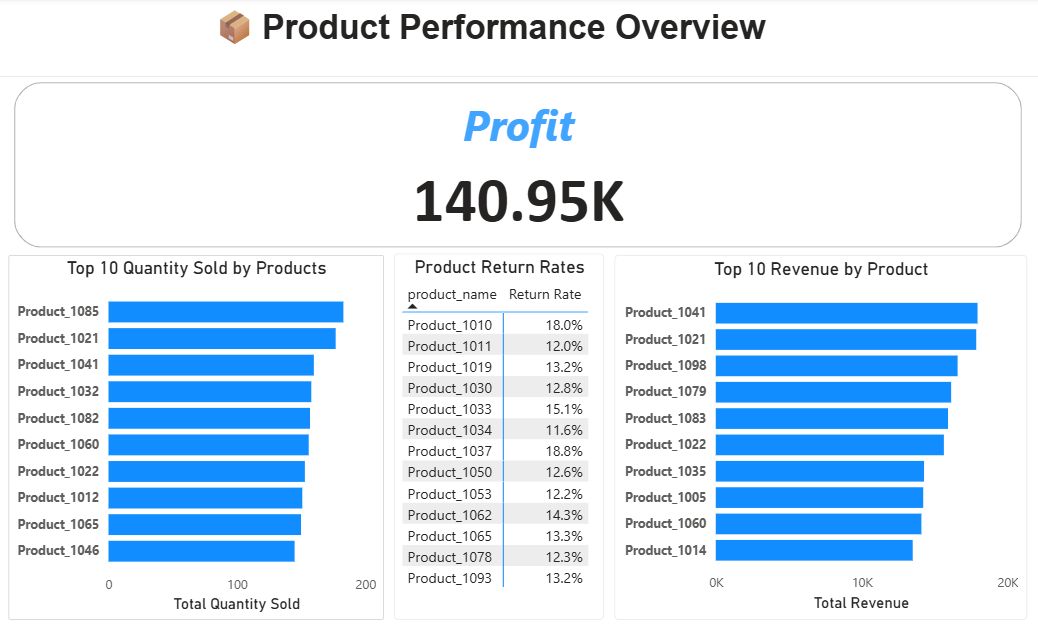

What the dashboard file says about the page in this screenshot:
{"tool":"powerbi","page":{"name":"Product Performance Overview","canvas":[1280,720],"ordinal":0},"visuals":[{"type":"clusteredBarChart","title":"Top 10 Revenue by Product","fields":{"Y":["Sales.Total Revenue"],"Category":["Products.product_name"]},"box":[785.3,244.3,390.5,345.1],"z":0},{"type":"clusteredBarChart","title":"Top 10 Quantity Sold by Products","fields":{"Y":["Sales.Total Quantity Sold"],"Category":["Products.product_name"]},"box":[211.6,244.3,355,345.1],"z":1000},{"type":"pivotTable","title":"Product Return Rates","fields":{"Values":["Returns.Return Rate"],"Rows":["Products.product_name"]},"box":[576.6,242.8,198.8,346.5],"z":2000},{"type":"cardVisual","title":"Profit","fields":{"Data":["Sales.Profit"]},"box":[211.6,75.3,964.3,167.6],"z":3000},{"type":"textbox","box":[78.1,0,1175.9,75.3],"z":4000}]}

Visuals, with their boxes on the page's 1280x720 design canvas (x1, y1, x2, y2). These are canvas units, not pixel positions in the 1038x637 screenshot, which may show the page scaled, cropped or inside an application window:
"Top 10 Revenue by Product" clusteredBarChart: [x1=785, y1=244, x2=1176, y2=589]
"Top 10 Quantity Sold by Products" clusteredBarChart: [x1=212, y1=244, x2=567, y2=589]
"Product Return Rates" pivotTable: [x1=577, y1=243, x2=775, y2=589]
"Profit" cardVisual: [x1=212, y1=75, x2=1176, y2=243]
textbox: [x1=78, y1=0, x2=1254, y2=75]
